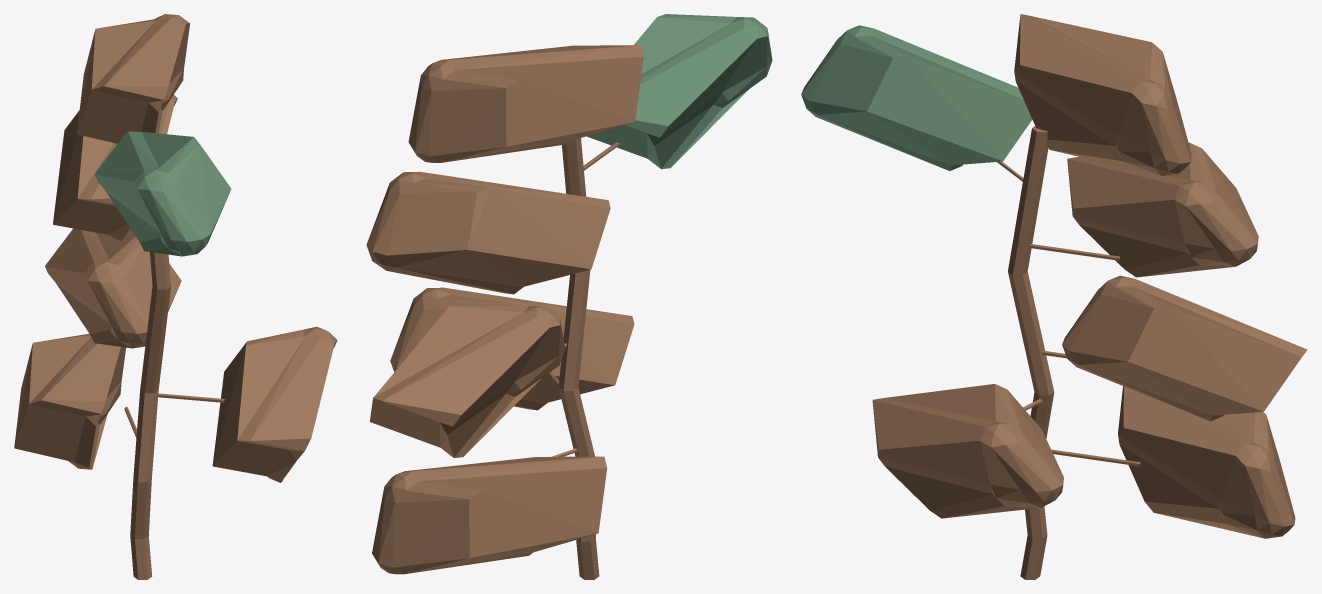
Rendered from SOME-TREE.glb.
3 views of the same model, side by side, from view 1: azimuth 30°, elevation 25°; view 2: azimuth 150°, elevation 25°; view 3: azimuth 270°, elevation 25° (orthographic). The views are drawn at different scales.
Parts seen in each view (by area): view 1: Icosphere; view 2: Icosphere; view 3: Icosphere.
Part boxes in pixels (left/top/right/bottom): Icosphere: left=14, top=14, right=337, bottom=579; Icosphere: left=366, top=14, right=772, bottom=579; Icosphere: left=801, top=14, right=1307, bottom=579.
Bounding box in the file's own units: 33.06 × 59.94 × 51.
Materials: 1 (1 with a texture image).
